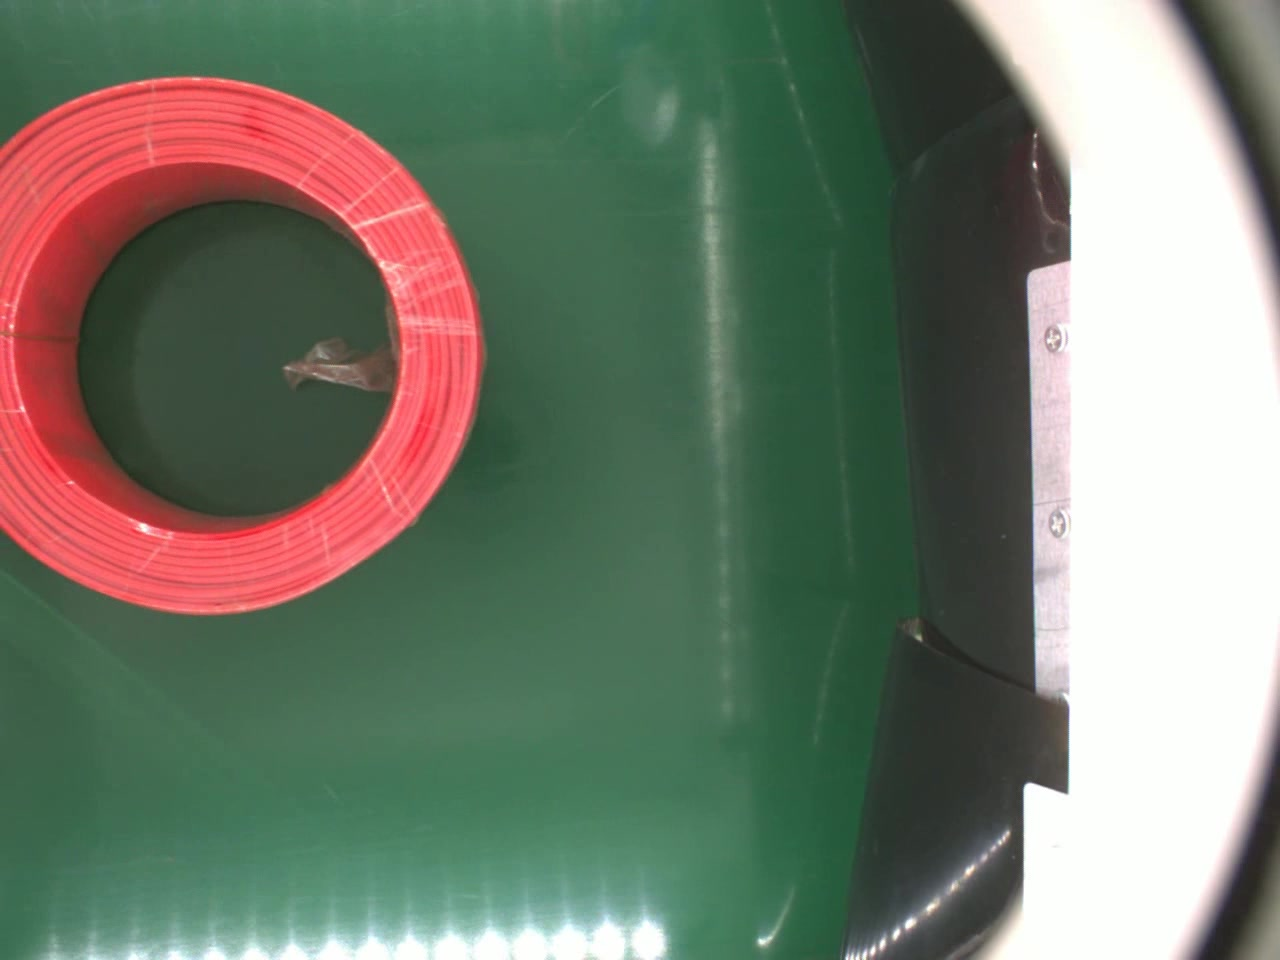red: (0, 73, 486, 622)
